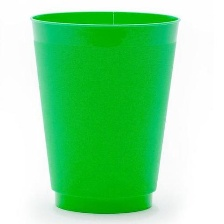glass: (21, 4, 181, 217)
